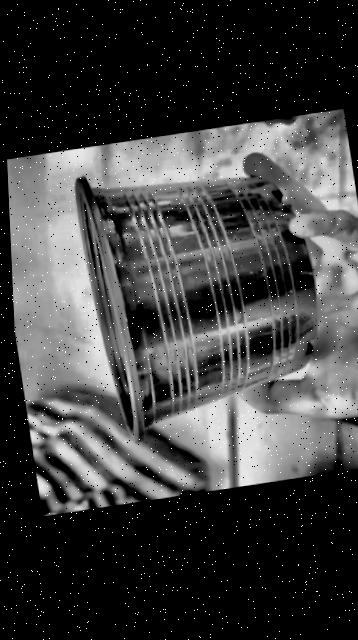pot: (75, 177, 317, 440)
